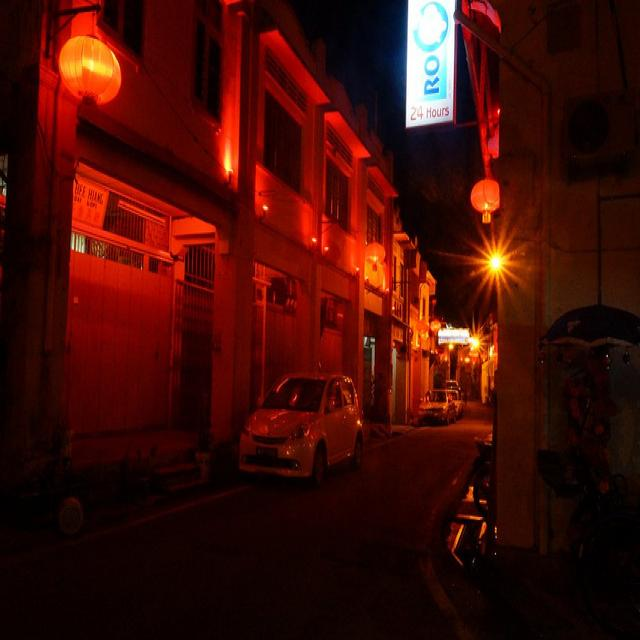Car: (239, 325, 369, 544), (412, 368, 482, 443)
